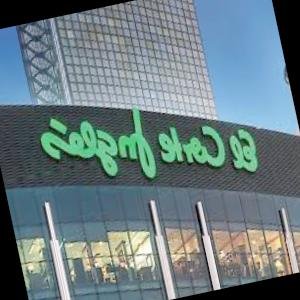corte_ingles: (26, 107, 267, 199)
